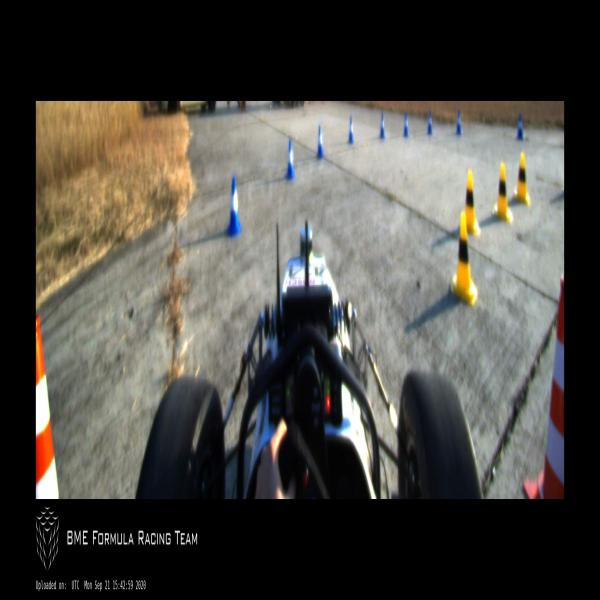blue_cone: (226, 177, 242, 235), (285, 141, 294, 178), (316, 126, 324, 157), (348, 117, 354, 143), (379, 112, 385, 138), (517, 114, 523, 139), (403, 112, 409, 136), (426, 110, 432, 134), (456, 110, 462, 134)
large_orange_cone: (523, 274, 564, 498), (36, 313, 60, 498)
yellow_cone: (451, 213, 478, 305), (494, 164, 512, 222), (464, 171, 480, 234), (514, 153, 530, 205)
